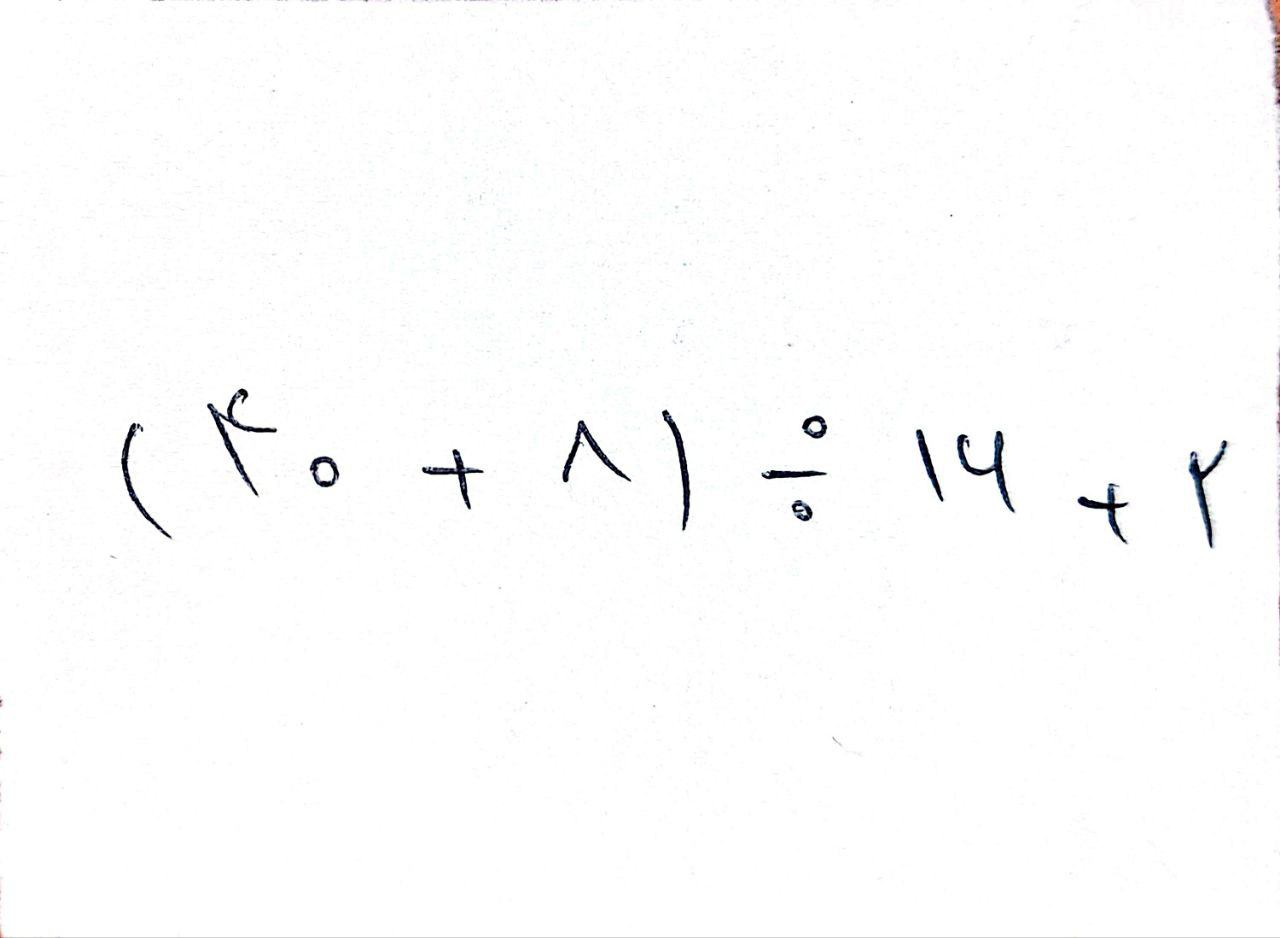character: (205, 385, 275, 505), (760, 413, 833, 525), (120, 418, 175, 548), (955, 425, 1020, 516), (558, 417, 633, 488), (1188, 440, 1231, 551), (417, 447, 486, 511), (660, 405, 691, 538), (1075, 480, 1135, 546), (911, 425, 950, 505), (308, 457, 340, 486)
